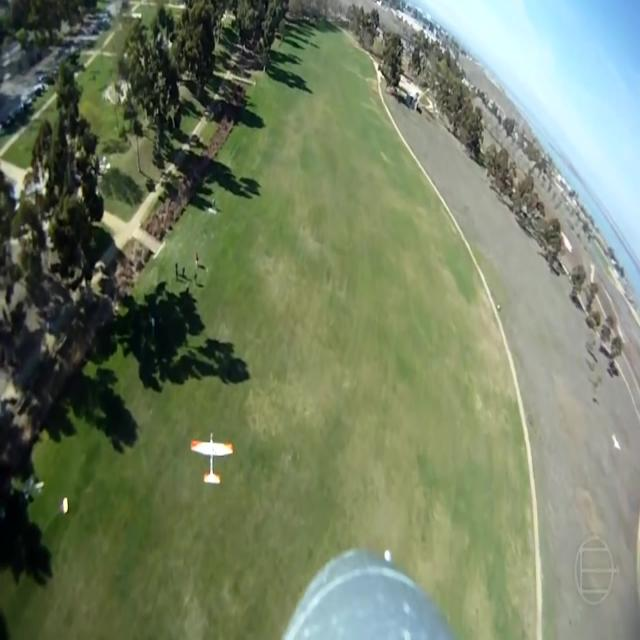iha: (190, 425, 233, 480)
